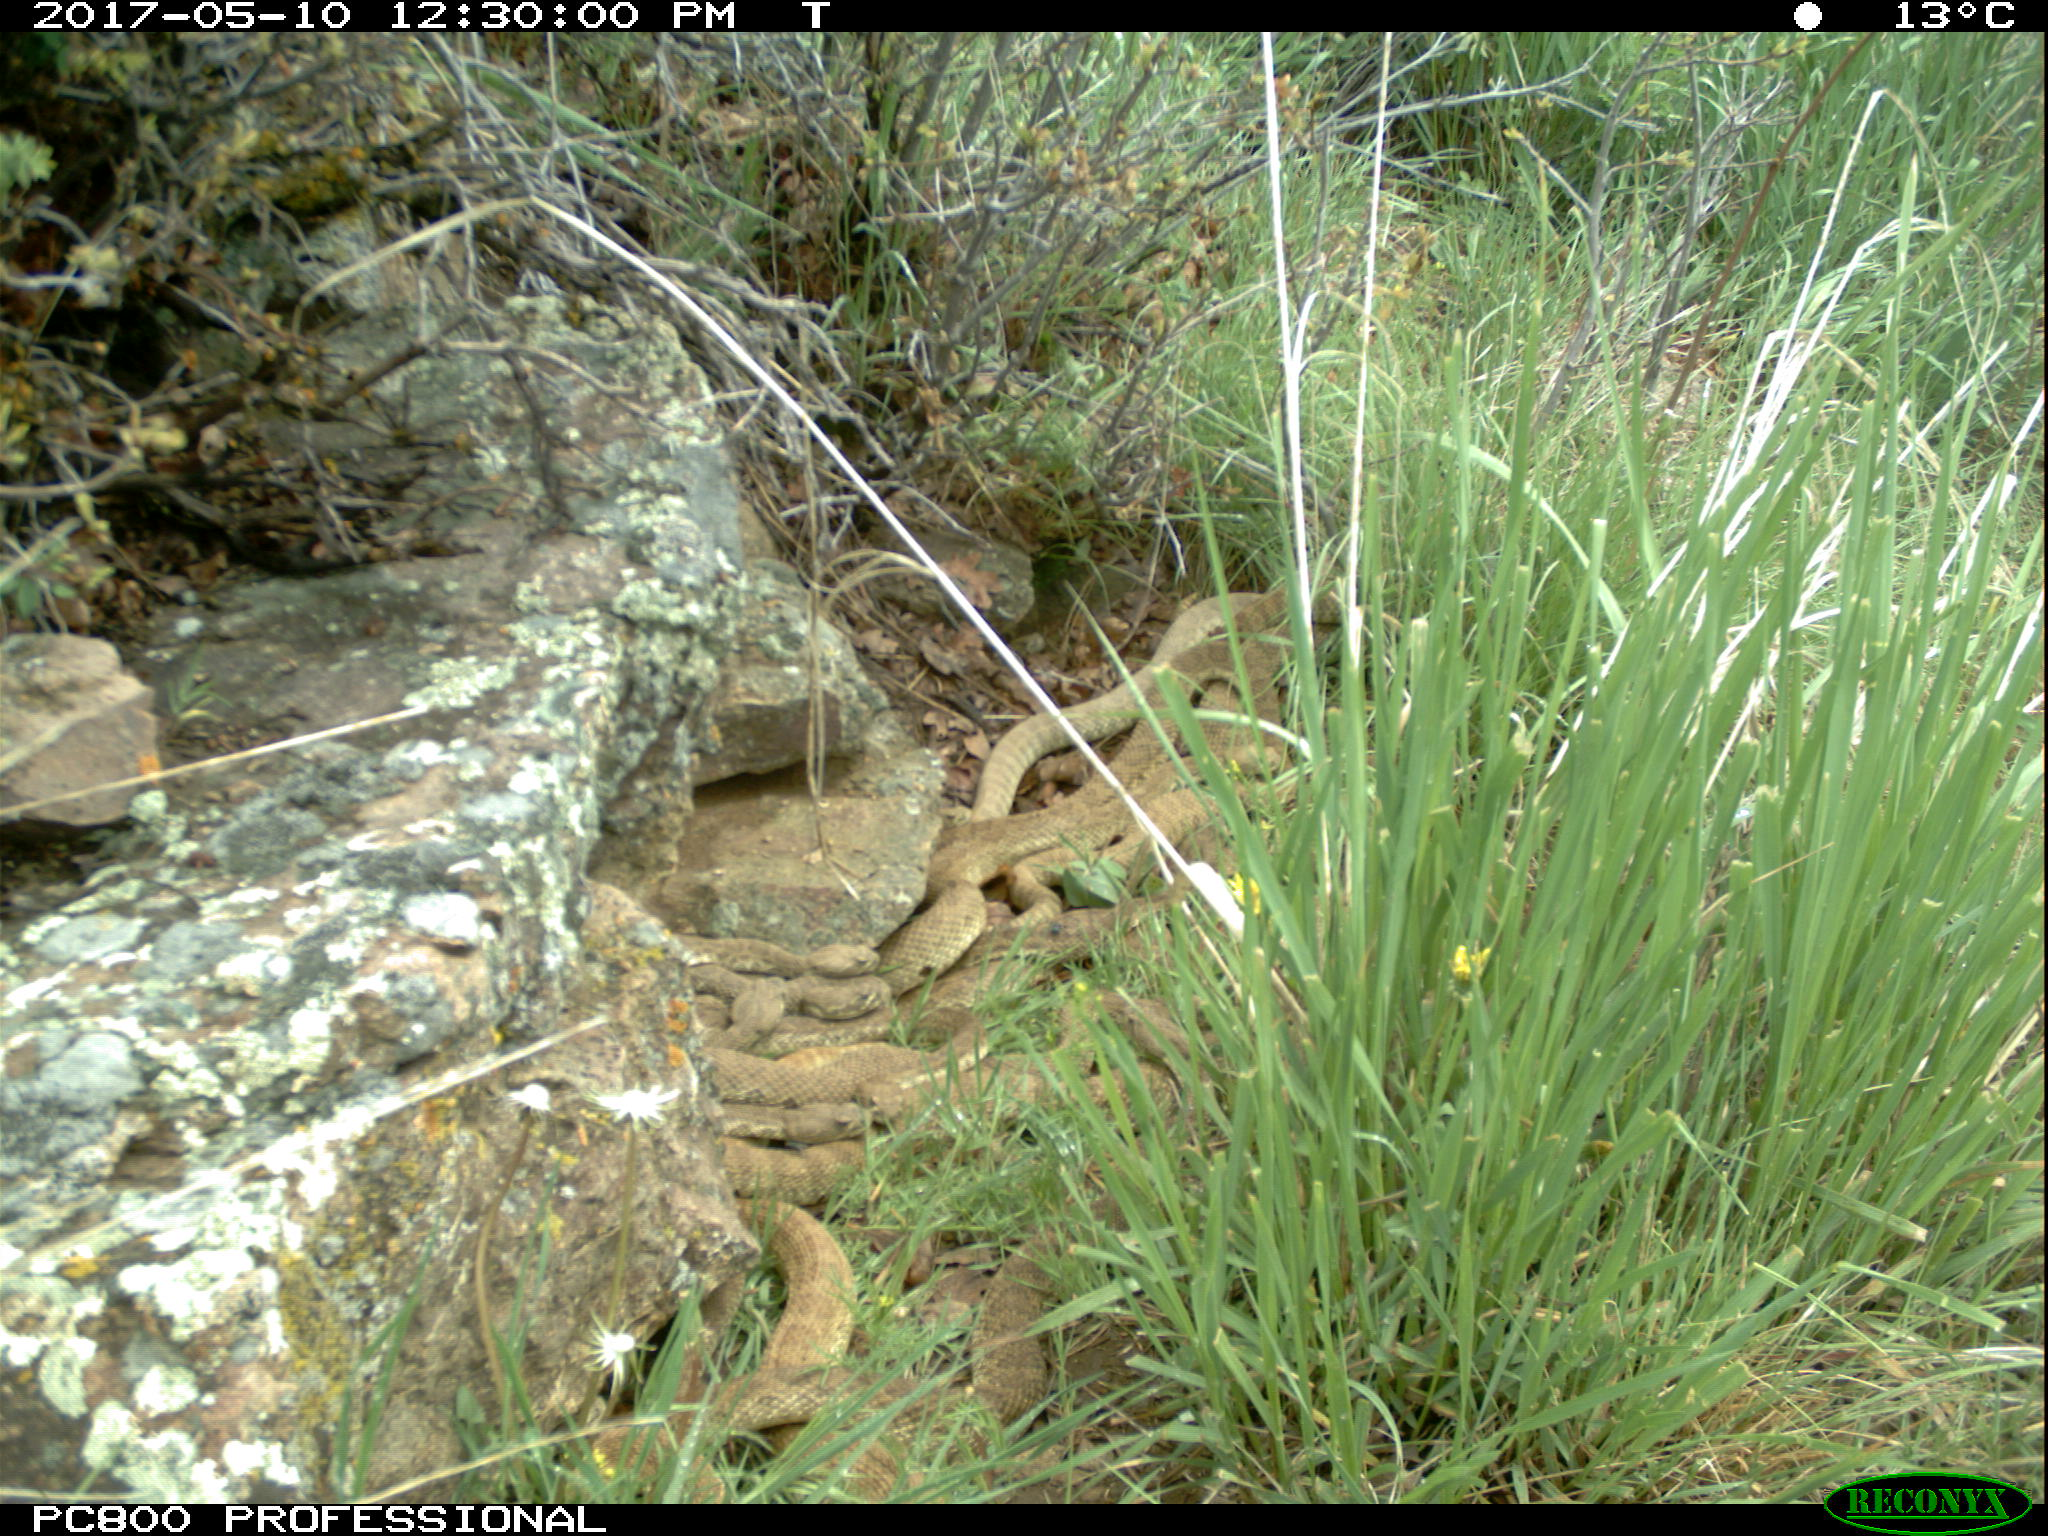snake: (969, 589, 1285, 816), (695, 1370, 1087, 1505), (698, 1046, 1037, 1168), (674, 931, 992, 1042), (906, 1228, 1069, 1418), (937, 815, 1206, 925), (724, 1170, 848, 1402), (918, 881, 1188, 968), (568, 1388, 742, 1502)
